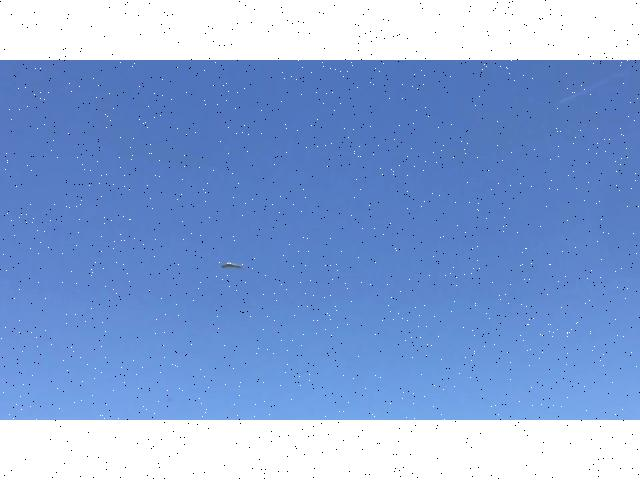Anti-Drone: (202, 256, 252, 281)
